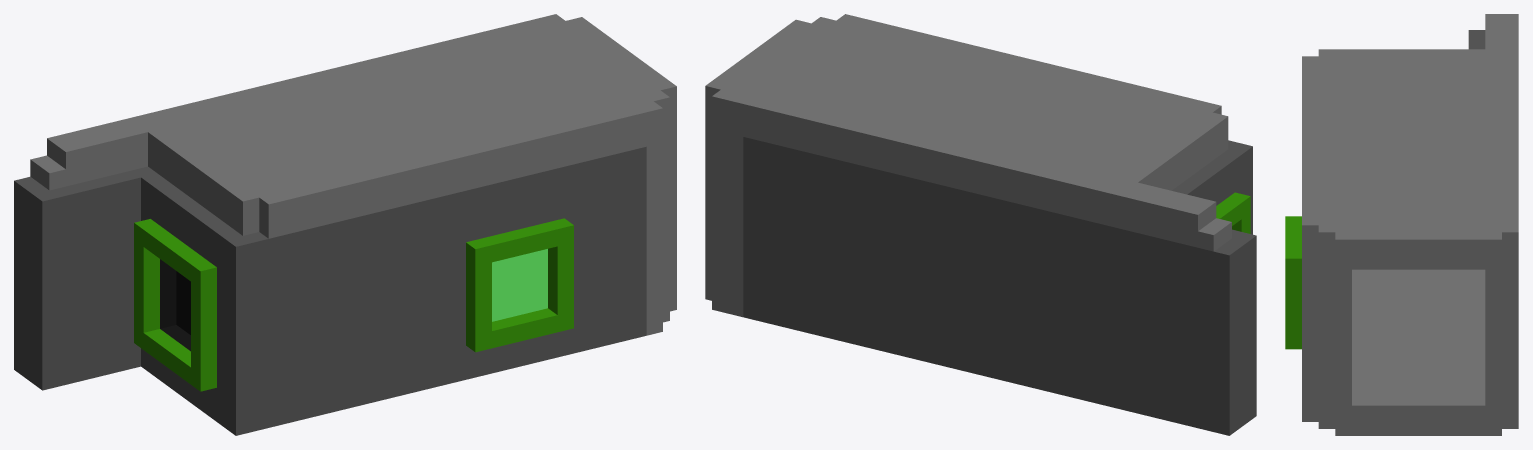
The model's file is RbtArm.obj.
3 views of the same model, side by side, from view 1: azimuth 30°, elevation 25°; view 2: azimuth 150°, elevation 25°; view 3: azimuth 270°, elevation 25° (orthographic). The views are drawn at different scales.
Bounding box in the file's own units: 34 × 13 × 14.
1 material, 1 textured.
